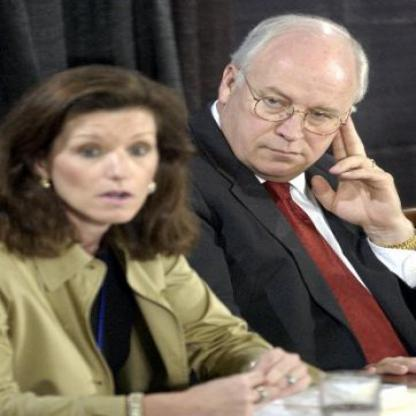face: (232, 34, 356, 180), (49, 79, 171, 225)
